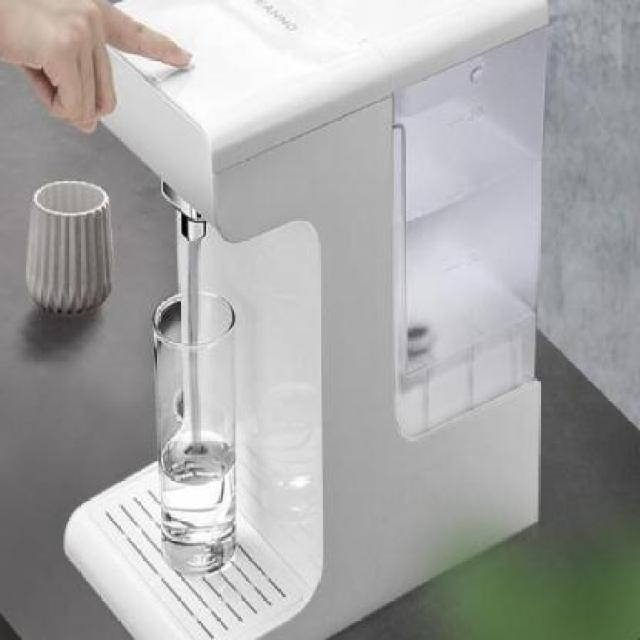cooler: (60, 0, 555, 640)
